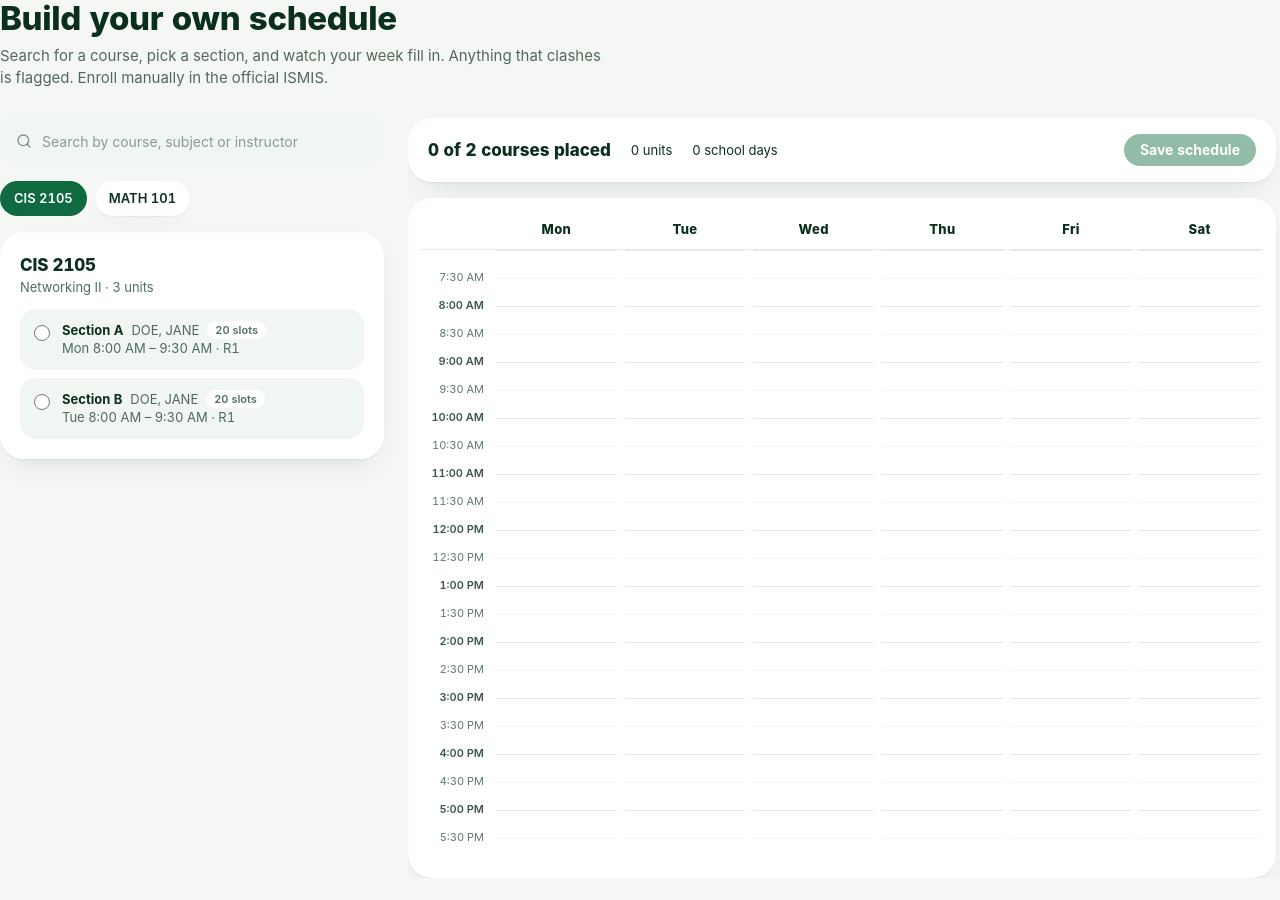
Test case: BuildSchedulePage › names, scores on the server, then saves the schedule
Click the radio button with aria-label "CIS 2105 section A" at [42, 333], box [34,325,50,341]
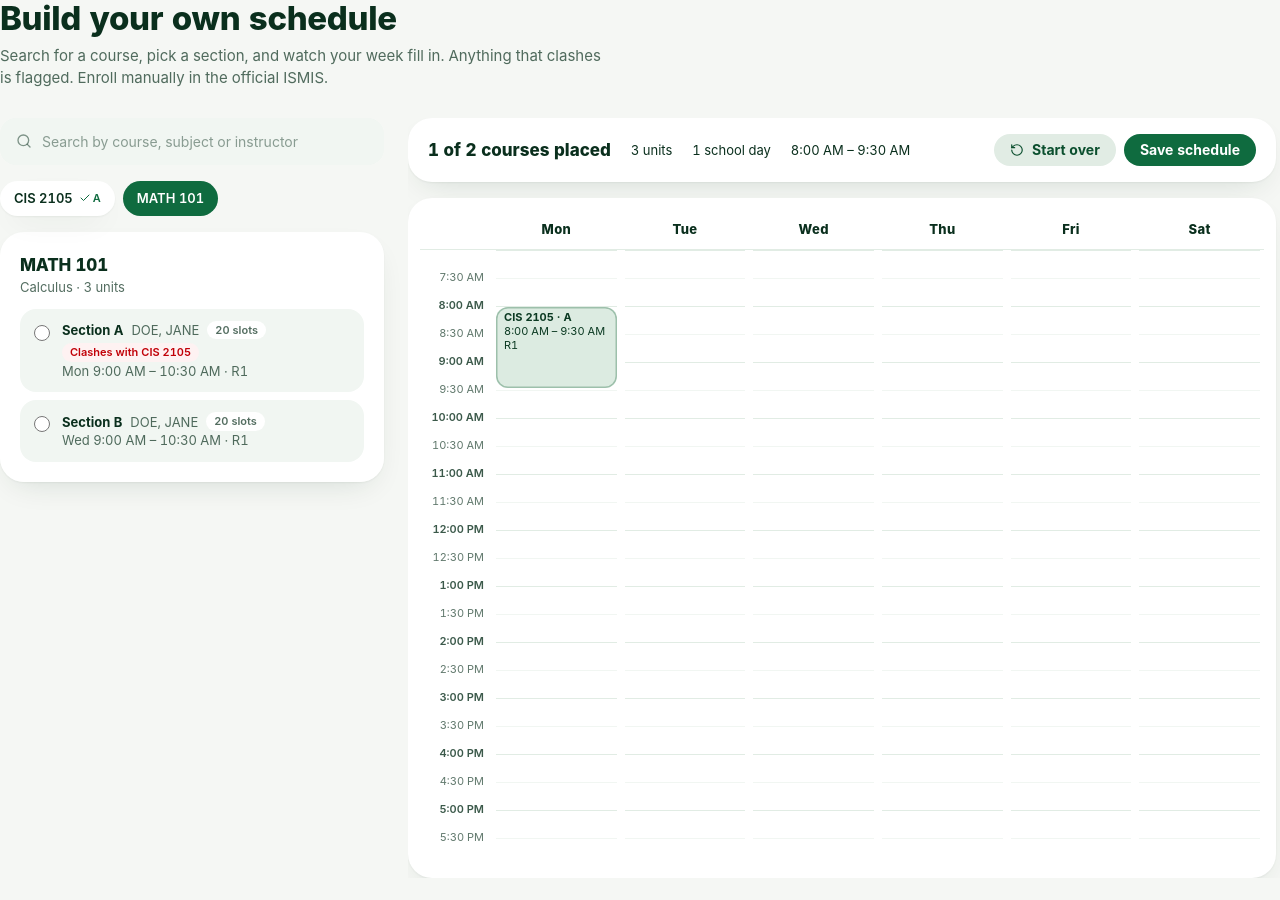
Click the radio button with aria-label "MATH 101 section B" at [42, 424], box [34,416,50,432]
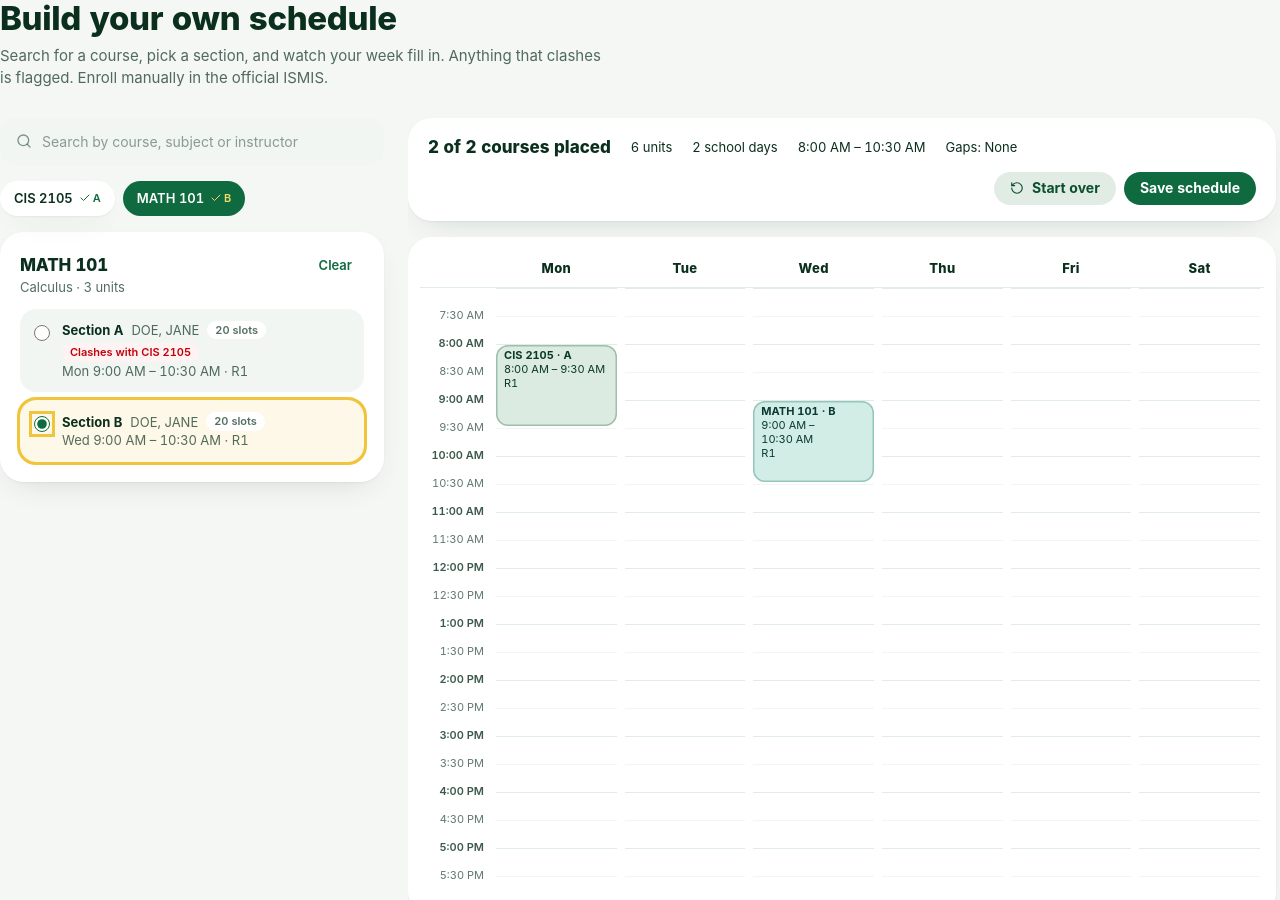
Click the button "Save schedule" at [1190, 188], box [1124,172,1256,205]
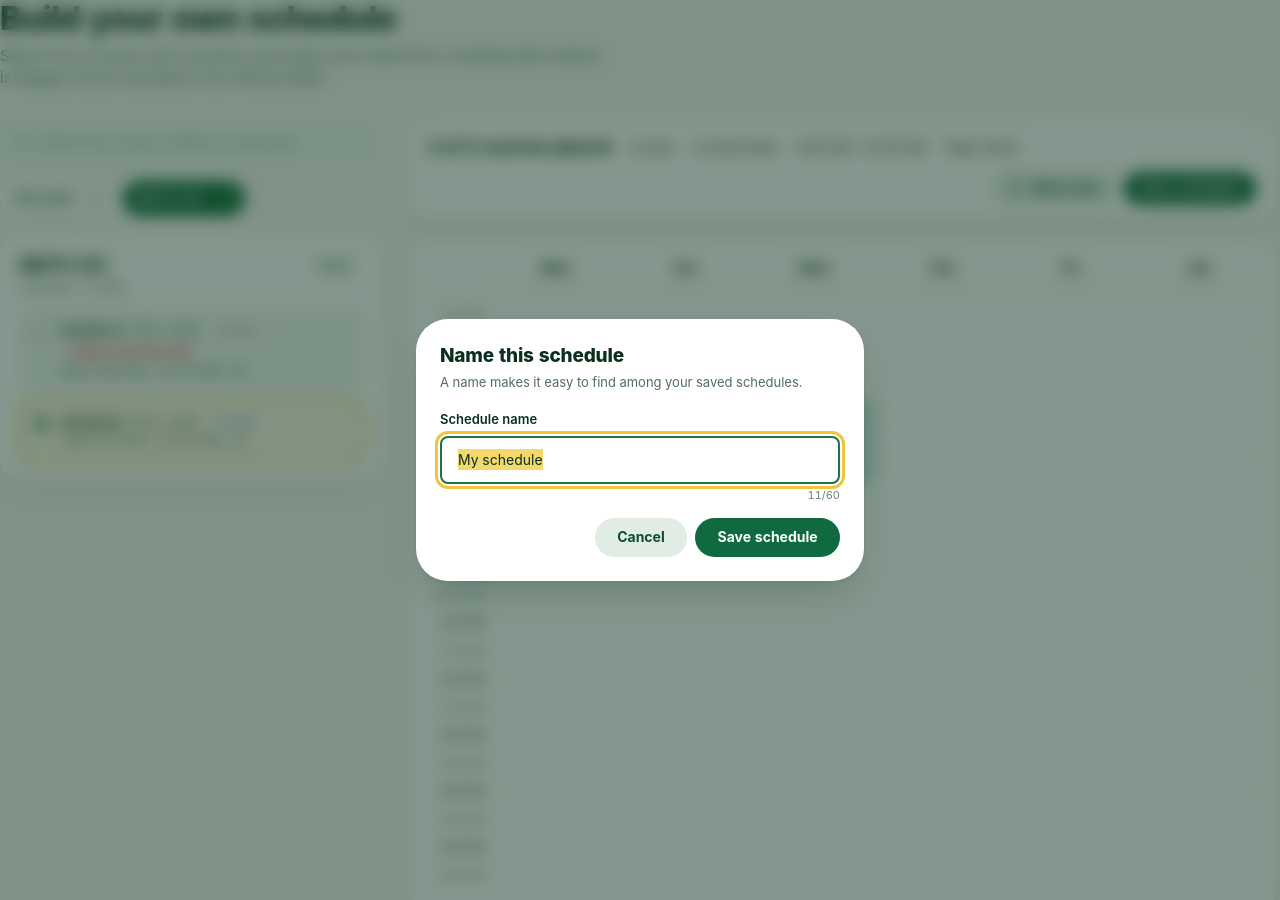
Replace the text in the field labelled "Schedule name" with "My own plan" at [640, 460], box [440,436,840,484]
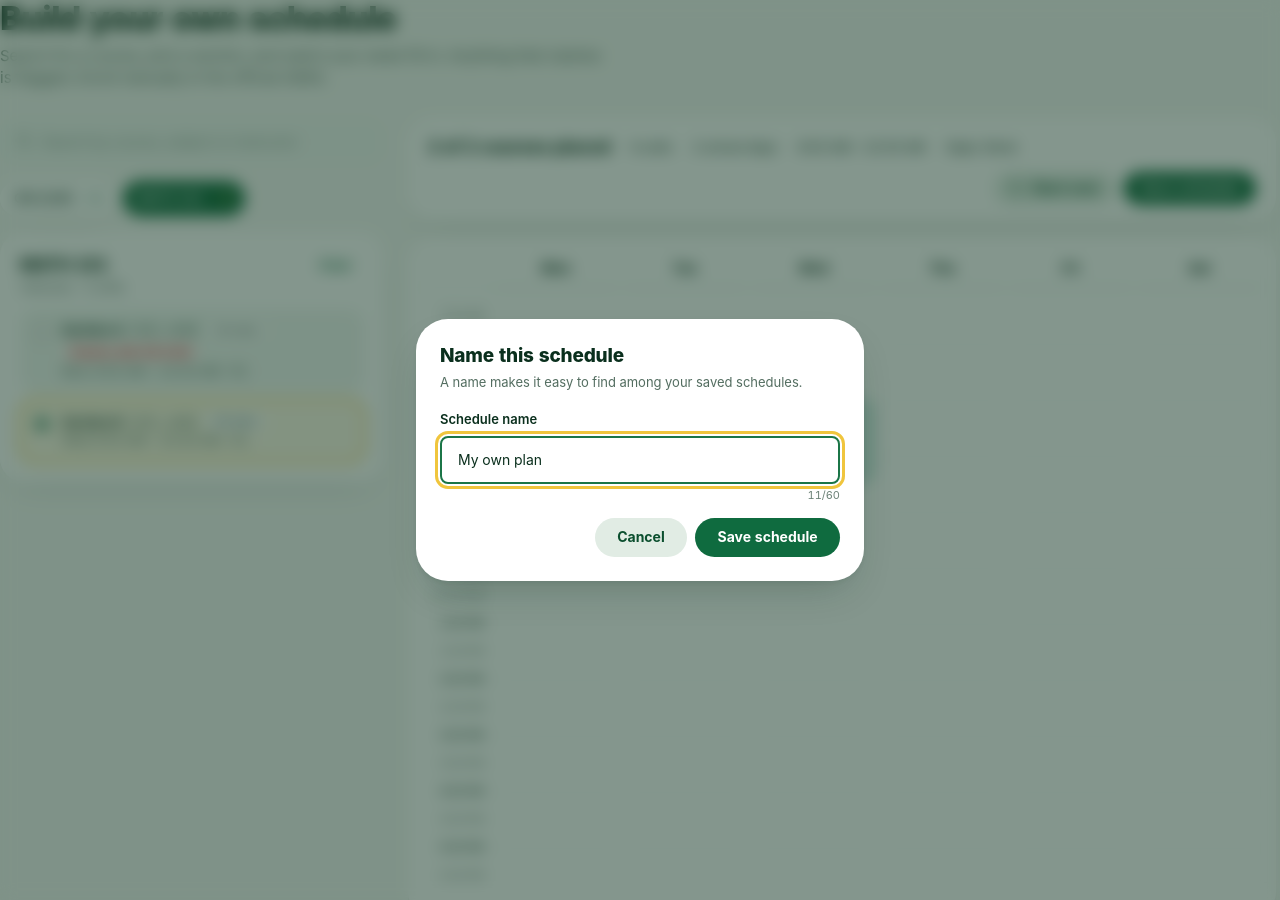
Click the button "Save schedule" at [768, 538], box [695,518,840,558]
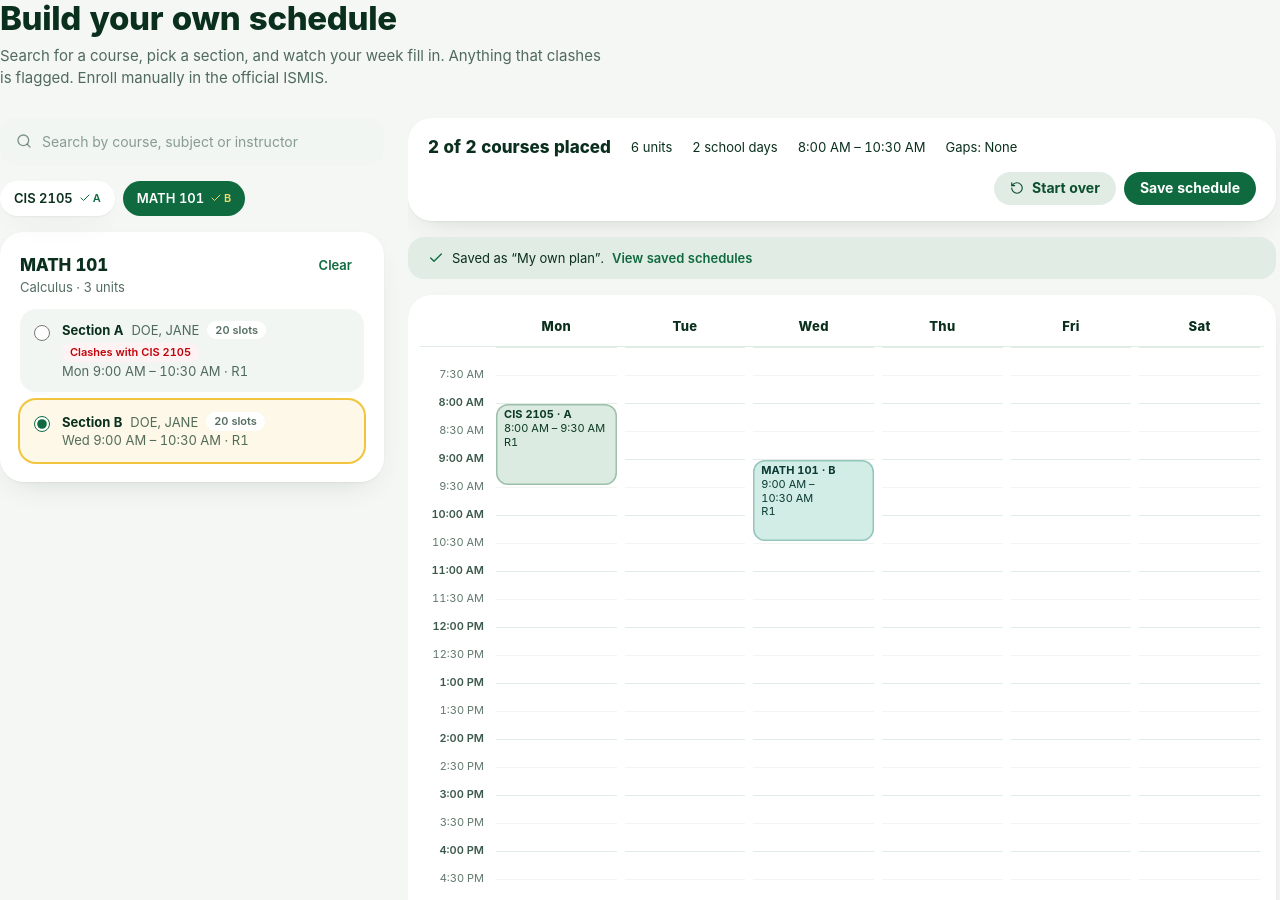
Check: the message shows "Saved as “My own plan”", box [408,237,1276,280]
